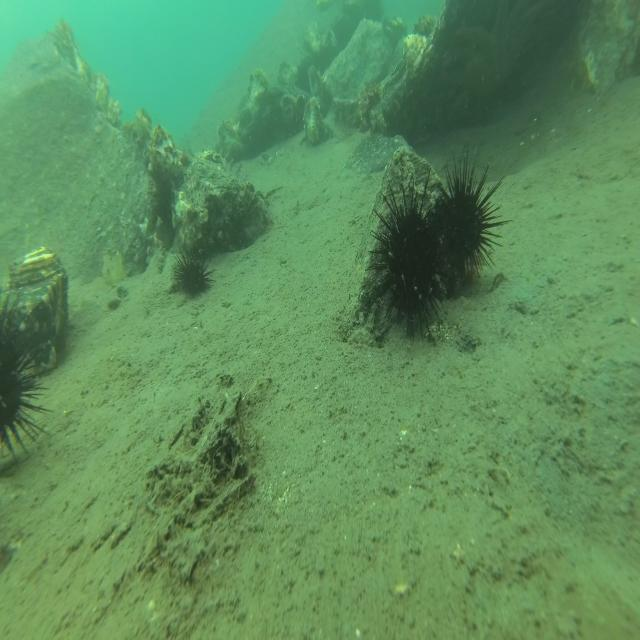echinus: (364, 164, 460, 341), (432, 140, 514, 284), (0, 288, 56, 468), (171, 246, 218, 298)
holothurian: (219, 148, 249, 182)
starfish: (448, 0, 545, 110)
